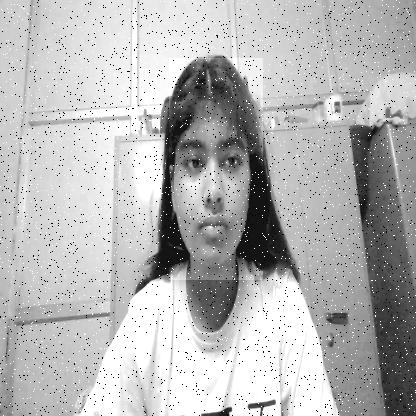Normal: (169, 58, 263, 280)
